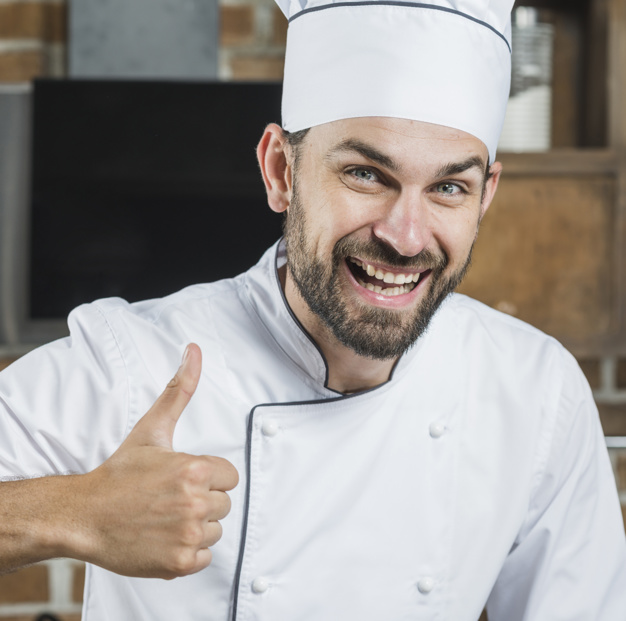thumbsup: (124, 342, 240, 578)
